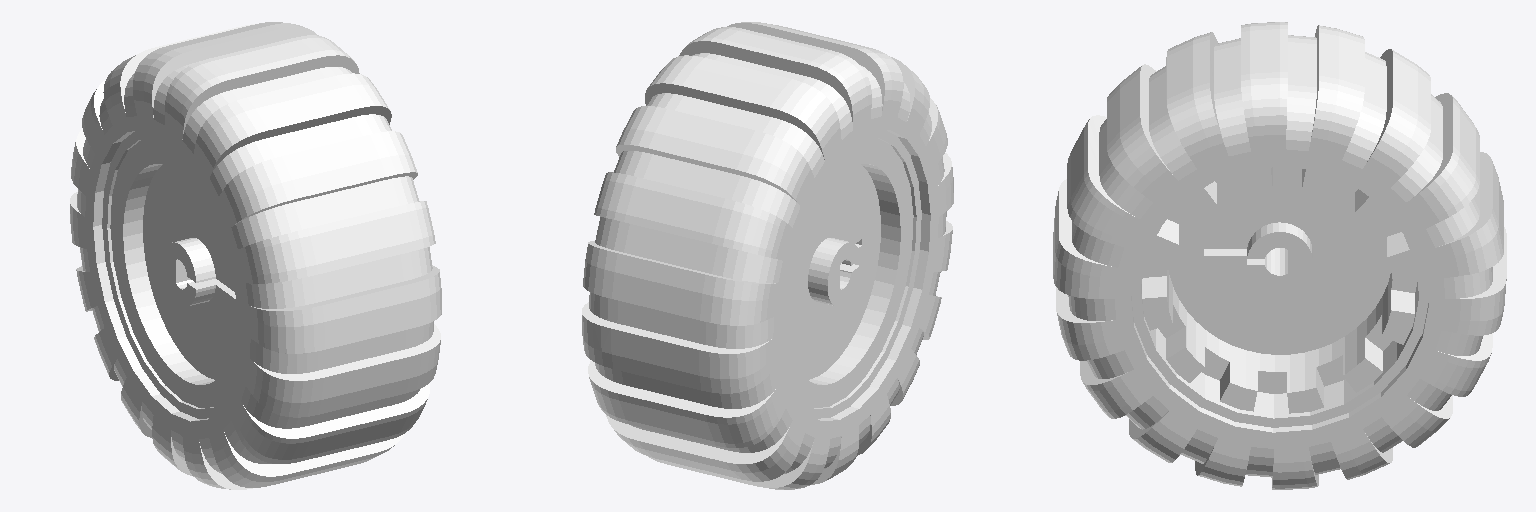
Rendered from wheel.obj.
3 views of the same model, side by side, from view 1: azimuth 30°, elevation 25°; view 2: azimuth 150°, elevation 25°; view 3: azimuth 270°, elevation 25° (orthographic).
Visible parts, largest first — view 1: Mesh_0; view 2: Mesh_0; view 3: Mesh_0.
Part boxes in pixels (x1,y1,x2,y2): Mesh_0: (70,22,441,489); Mesh_0: (582,22,953,489); Mesh_0: (1053,22,1506,489).
Size of the model in its own units: 0.0189 by 0.0422 by 0.0422.